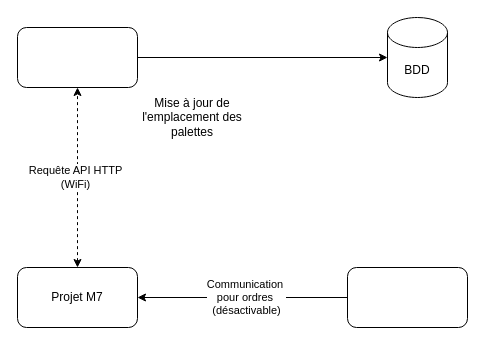
This 485x345 diagram has some shape labels left out. Here are the shapes that lost their labels. From the top down, the centre of each, then its label:
(77,57): Node-RED
(407,297): Automate
